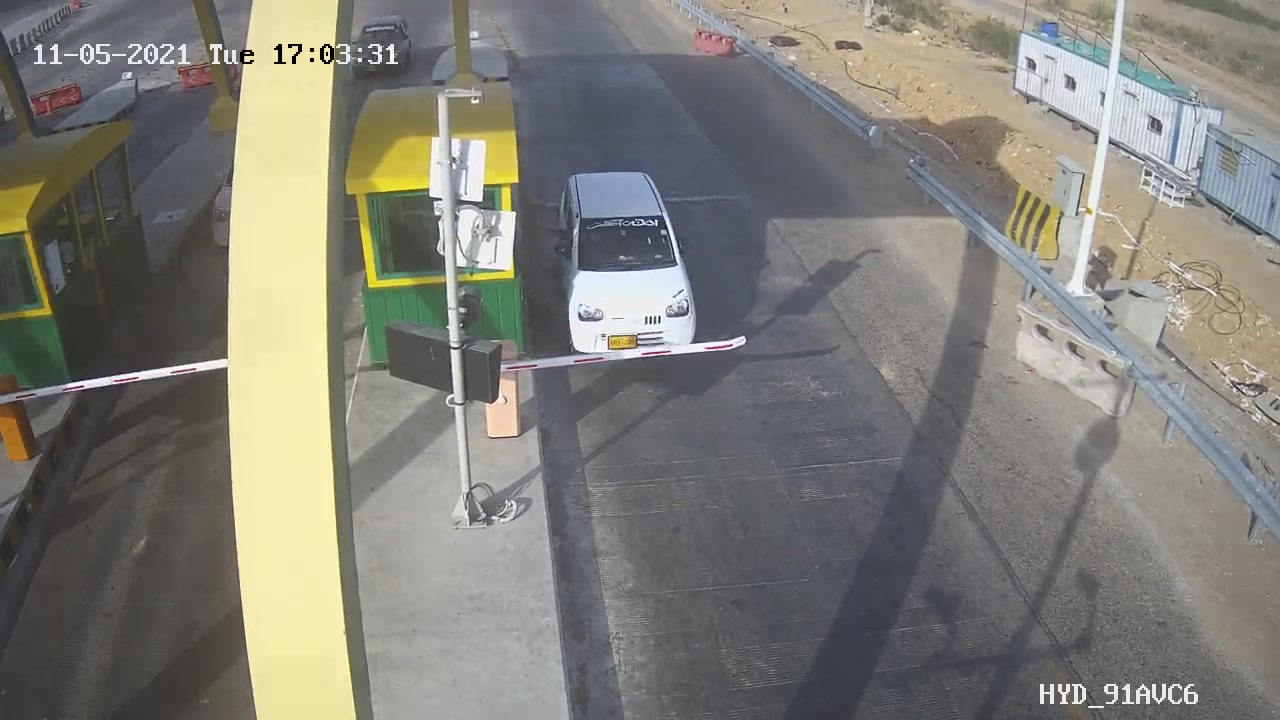F1: (533, 157, 718, 372)
